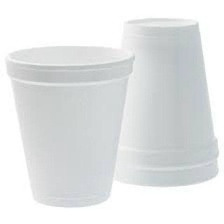paper_cup: (2, 37, 138, 211), (99, 11, 224, 191)
